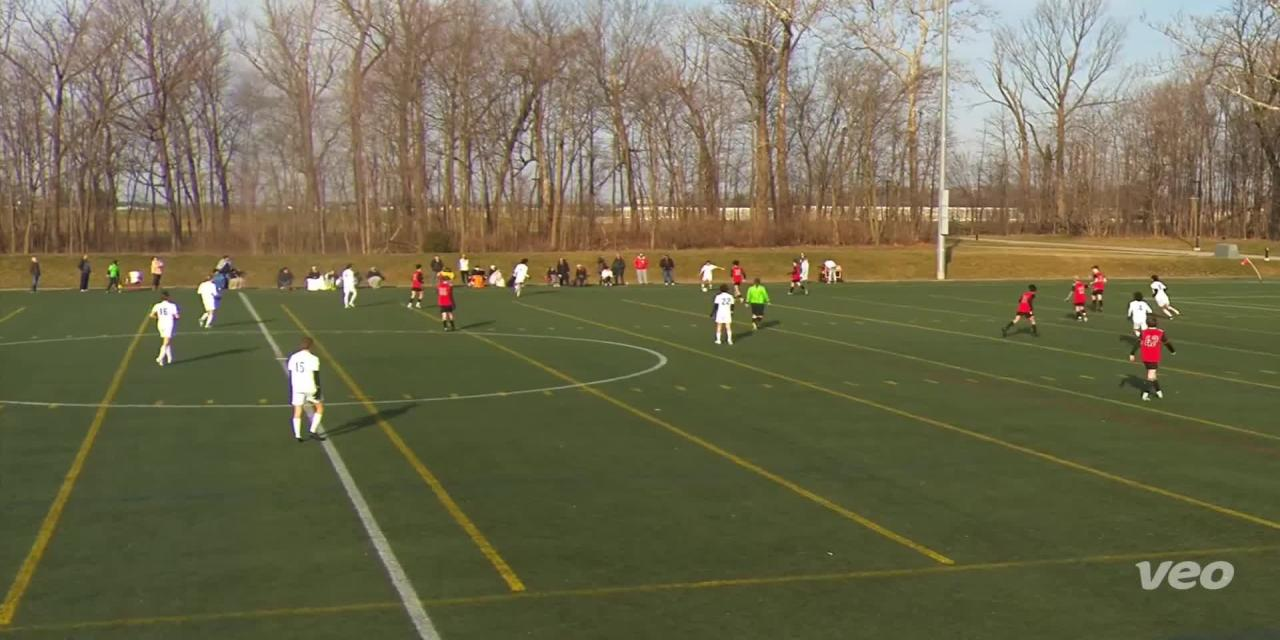sports ball: (700, 283, 712, 296)
